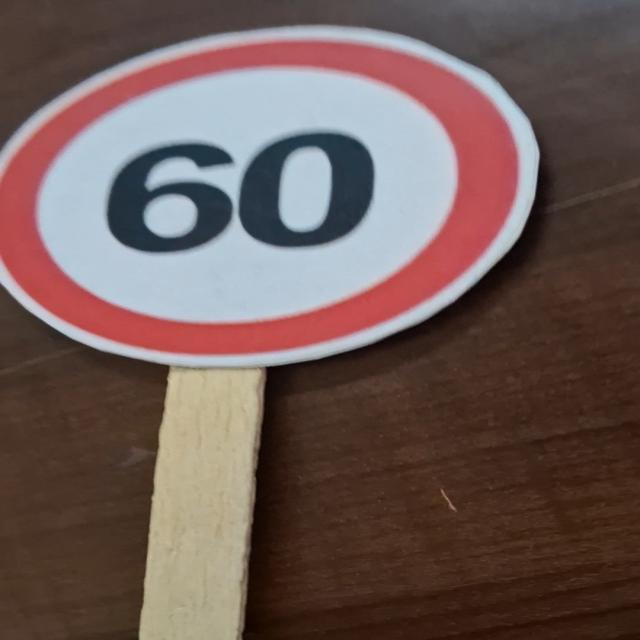Speed60: (0, 17, 549, 370)
